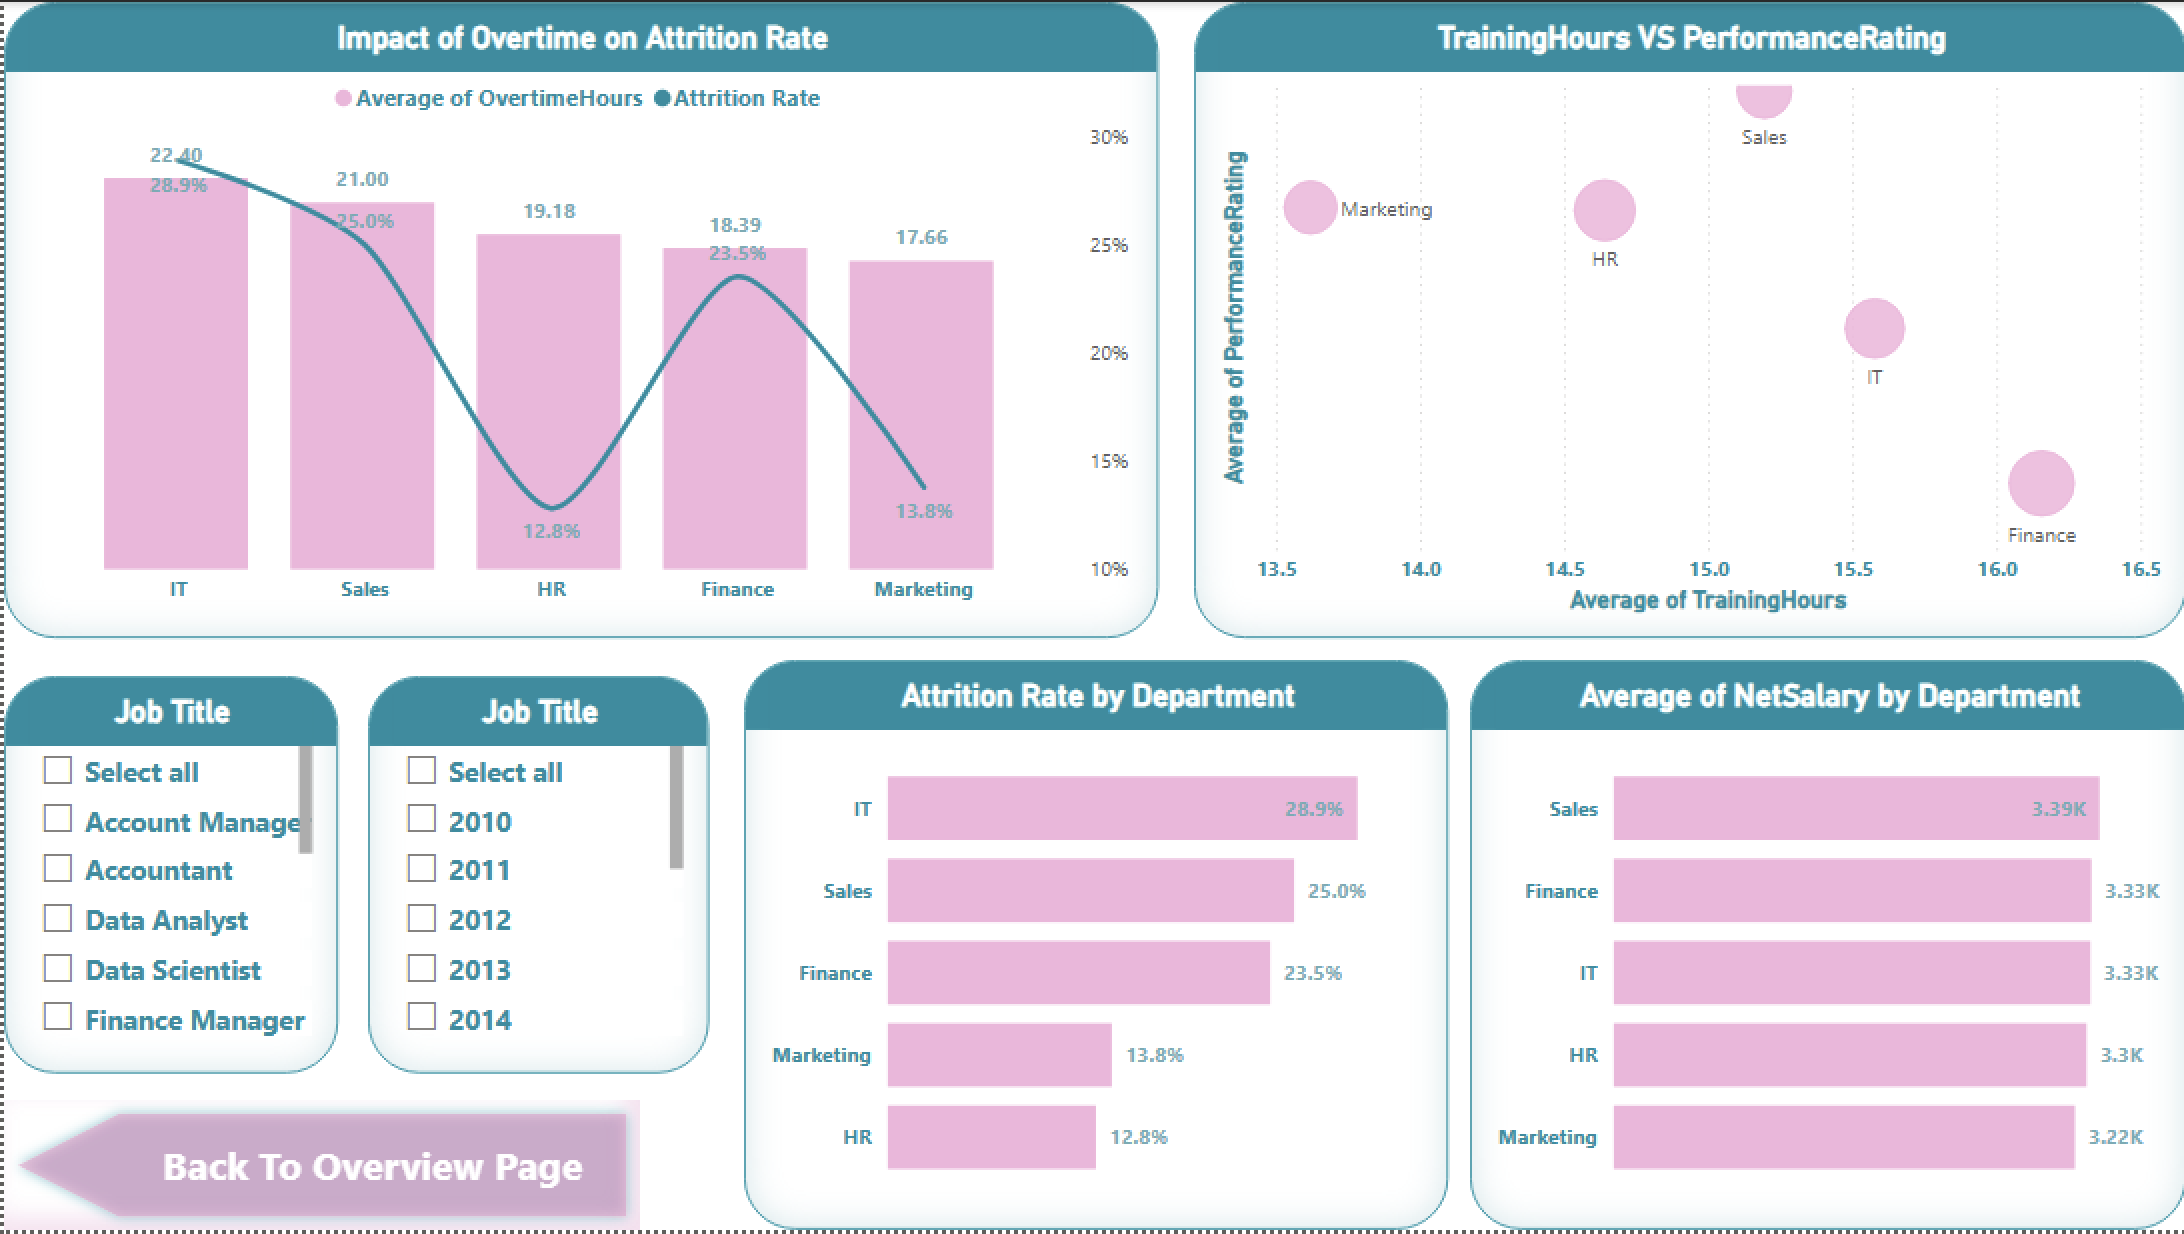

The page's visual inventory and layout, read from the dashboard file:
{"tool":"powerbi","page":{"name":"Insights","canvas":[1280,720],"ordinal":1},"visuals":[{"type":"barChart","fields":{"Category":["Employees.Department"],"Y":["Employees.Attrition Rate"]},"box":[433.4,385.9,413.3,334.1],"z":0},{"type":"barChart","fields":{"Category":["Employees.Department"],"Y":["Avg(SalaryDetails.NetSalary)"]},"box":[859.7,385.9,420.5,334.1],"z":1000},{"type":"lineStackedColumnComboChart","title":"Impact of Overtime on Attrition Rate ","fields":{"Category":["Employees.Department"],"Y2":["Employees.Attrition Rate"],"Y":["Avg(Employees.OvertimeHours)"]},"box":[0,0,676.8,373],"z":2000},{"type":"scatterChart","title":"TrainingHours VS  PerformanceRating ","fields":{"X":["Avg(Employees.TrainingHours)"],"Y":["Avg(Employees.PerformanceRating)"],"Category":["Employees.Department"],"Size":["Employees.HeadCount"]},"box":[697.9,0,582.1,373],"z":3000},{"type":"slicer","title":"Job Title","fields":{"Values":["Employees.JobTitle"]},"box":[0,395.6,195.5,233.1],"z":4000},{"type":"slicer","title":"Job Title","fields":{"Values":["Employees.Hire year"]},"box":[213.6,395.6,200,233.1],"z":5000},{"type":"actionButton","title":"Go To Insights Page","box":[0,643.8,373,76.7],"z":6000}]}

Visuals, with their boxes in screenshot pixels (x1, y1, x2, y2), scaled from the page's 1280x720 canvas onto the 2184x1234 screenshot:
barChart - Employees.Department x Employees.Attrition Rate: select_region(739, 661, 1445, 1233)
barChart - Employees.Department x Avg(SalaryDetails.NetSalary): select_region(1467, 661, 2183, 1233)
"Impact of Overtime on Attrition Rate " lineStackedColumnComboChart: select_region(0, 0, 1155, 639)
"TrainingHours VS  PerformanceRating " scatterChart: select_region(1191, 0, 2183, 639)
"Job Title" slicer: select_region(0, 678, 334, 1078)
"Job Title" slicer: select_region(364, 678, 706, 1078)
"Go To Insights Page" actionButton: select_region(0, 1103, 636, 1233)
